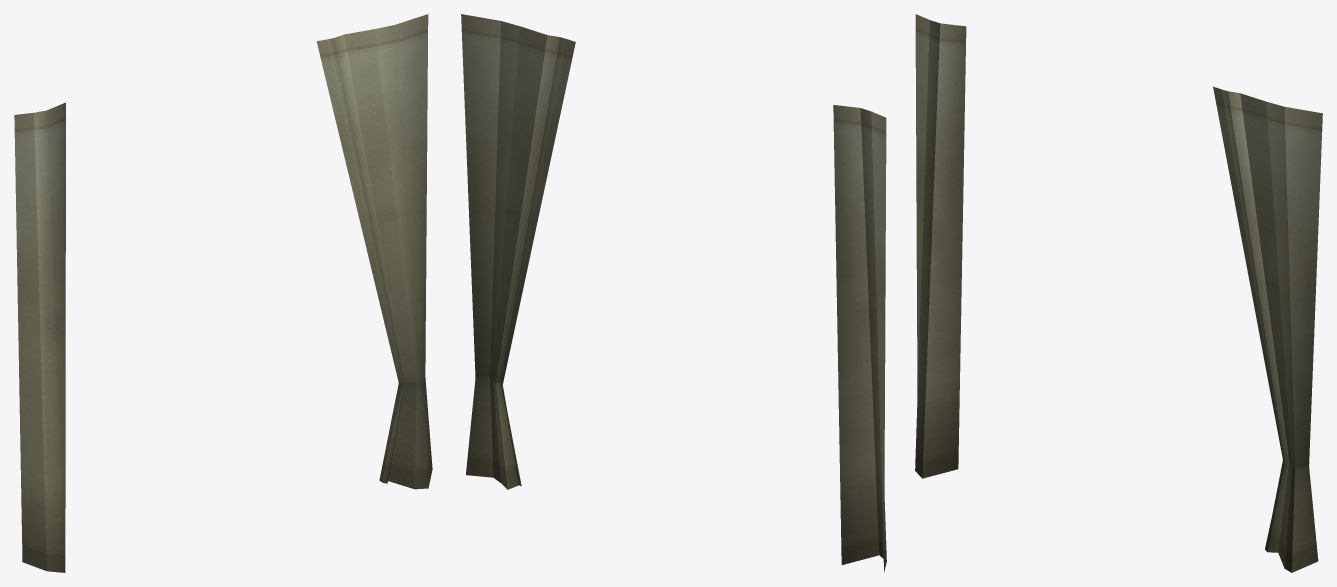
The model's file is prop_curtain-open-1.glb.
3 views of the same model, side by side, from view 1: azimuth 30°, elevation 25°; view 2: azimuth 150°, elevation 25°; view 3: azimuth 330°, elevation 25° (orthographic). The views are drawn at different scales.
Visible parts, largest first — view 1: prop_curtain-open-1; view 2: prop_curtain-open-1; view 3: prop_curtain-open-1.
Part boxes in pixels (box(x1,y1,x2,y2)): prop_curtain-open-1: box(14, 14, 432, 572); prop_curtain-open-1: box(461, 14, 886, 572); prop_curtain-open-1: box(915, 14, 1322, 572).
Bounding box in the file's own units: 1.71 × 1.82 × 0.1581.
Materials: 1 (1 with a texture image).
